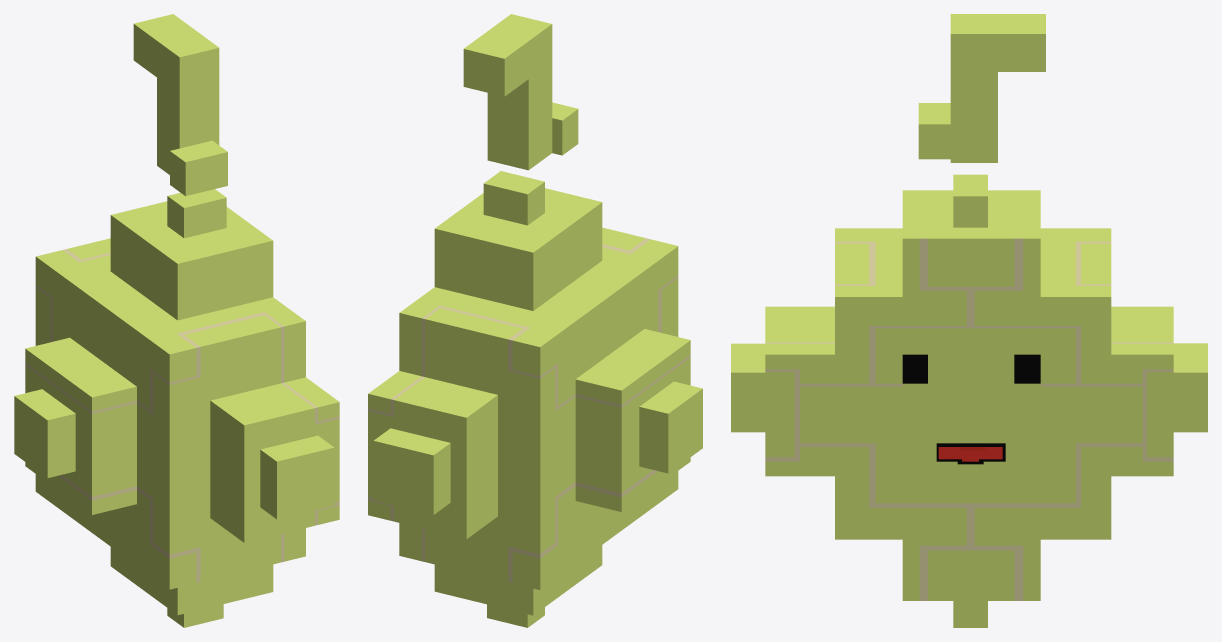
File: puso.fbx
The picture shows the model from 3 angles, left to right: view 1: azimuth 30°, elevation 25°; view 2: azimuth 150°, elevation 25°; view 3: azimuth 270°, elevation 25°; orthographic projection. The views are drawn at different scales.
Parts seen in each view (by area): view 1: Cube, Cube.061, Cube.062; view 2: Cube, Cube.061, Cube.062; view 3: Cube.061, Cube, Cube.062.
Part boxes in pixels (x1,y1,x2,y2): Cube: (14,189,339,627); Cube.061: (14,205,339,627); Cube.062: (133,14,227,196); Cube: (368,171,702,627); Cube.061: (368,183,702,603); Cube.062: (463,14,578,170); Cube.061: (731,190,1207,627); Cube: (731,174,1207,627); Cube.062: (918,14,1045,162).
Bounding box in the file's own units: 87.72 × 230 × 168.
